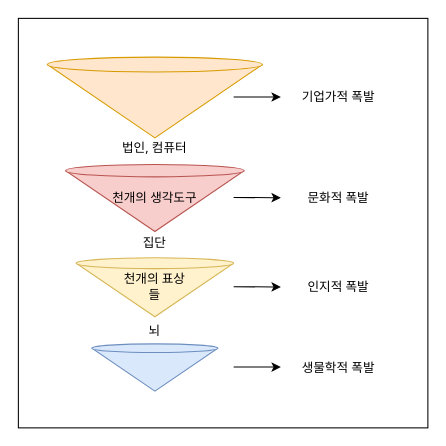
The diagram is 446 pixels wide and 446 high, and some of its shapes have lost their labels. The centre of each missing label's shape, as x and y in pixels:
"천개의 스타트업" goes at (x=154, y=97).
"천개의 적응들" goes at (x=154, y=367).
